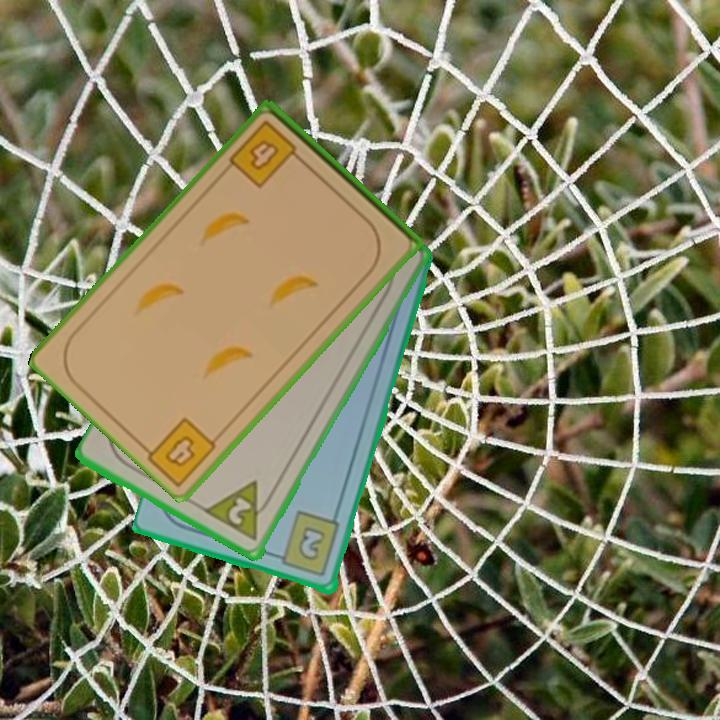2b: (270, 509, 343, 580)
2p: (202, 477, 278, 545)
4b: (226, 117, 308, 191), (161, 432, 199, 471)
